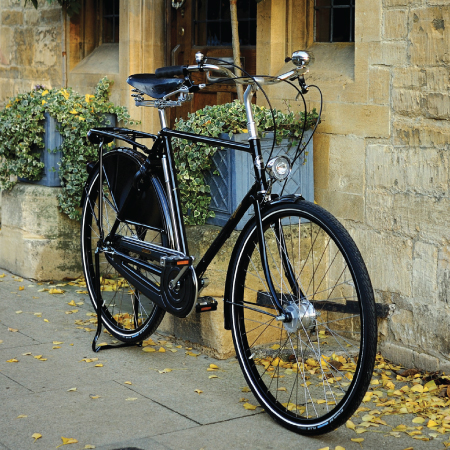cycle: (72, 49, 394, 440)
